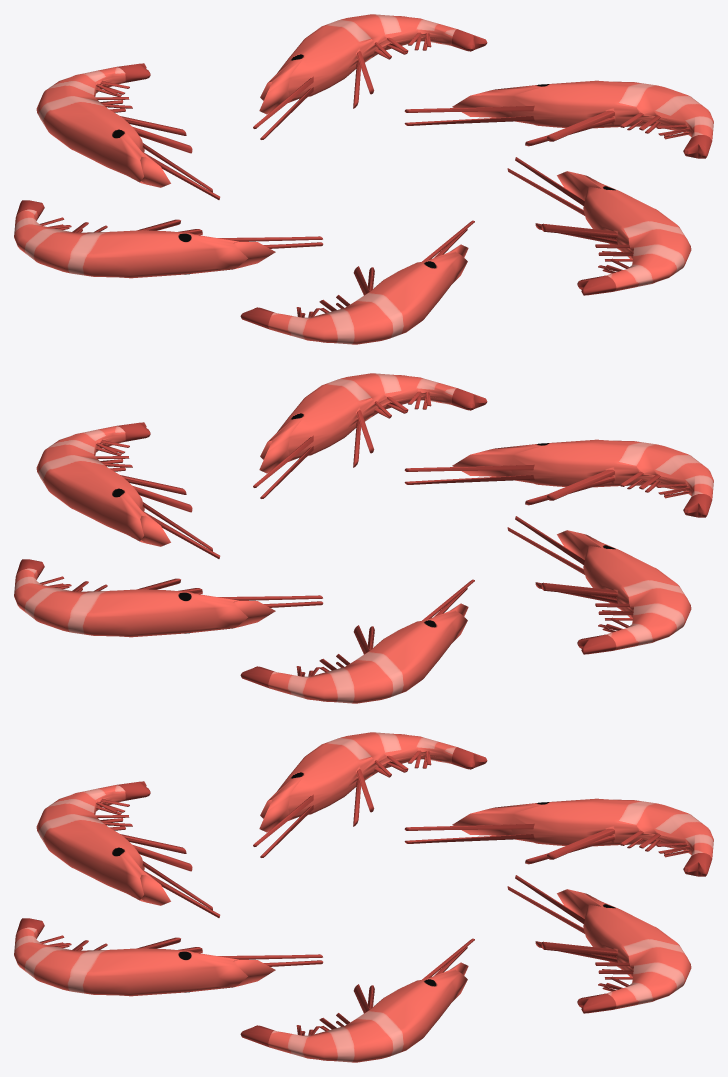
File: ebihalo.glb
3 renders of one model, top to bottom at view 1: azimuth 30°, elevation 25°; view 2: azimuth 150°, elevation 25°; view 3: azimuth 270°, elevation 25°, orthographic.
Visible parts, largest first — view 1: Shrimp, Shrimp.003, Shrimp.002, Shrimp.005, Shrimp.001, Shrimp.004; view 2: Shrimp.004, Shrimp.001, Shrimp, Shrimp.003, Shrimp.005, Shrimp.002; view 3: Shrimp.002, Shrimp.005, Shrimp.004, Shrimp.001, Shrimp.003, Shrimp.
Part boxes in pixels (left/top/right/bottom): Shrimp: left=404, top=80, right=713, bottom=158; Shrimp.003: left=14, top=200, right=323, bottom=278; Shrimp.002: left=36, top=63, right=220, bottom=199; Shrimp.005: left=507, top=157, right=691, bottom=295; Shrimp.001: left=253, top=14, right=487, bottom=139; Shrimp.004: left=240, top=220, right=474, bottom=344; Shrimp.004: left=404, top=439, right=713, bottom=517; Shrimp.001: left=14, top=559, right=323, bottom=637; Shrimp: left=36, top=422, right=220, bottom=558; Shrimp.003: left=507, top=516, right=691, bottom=654; Shrimp.005: left=253, top=373, right=487, bottom=498; Shrimp.002: left=240, top=579, right=474, bottom=703; Shrimp.002: left=404, top=798, right=713, bottom=876; Shrimp.005: left=14, top=918, right=323, bottom=996; Shrimp.004: left=36, top=781, right=220, bottom=917; Shrimp.001: left=507, top=875, right=691, bottom=1013; Shrimp.003: left=253, top=732, right=487, bottom=857; Shrimp: left=240, top=938, right=474, bottom=1062.
Size of the model in its own units: 2.43 by 0.1422 by 2.25.
6 materials, 6 textured.
